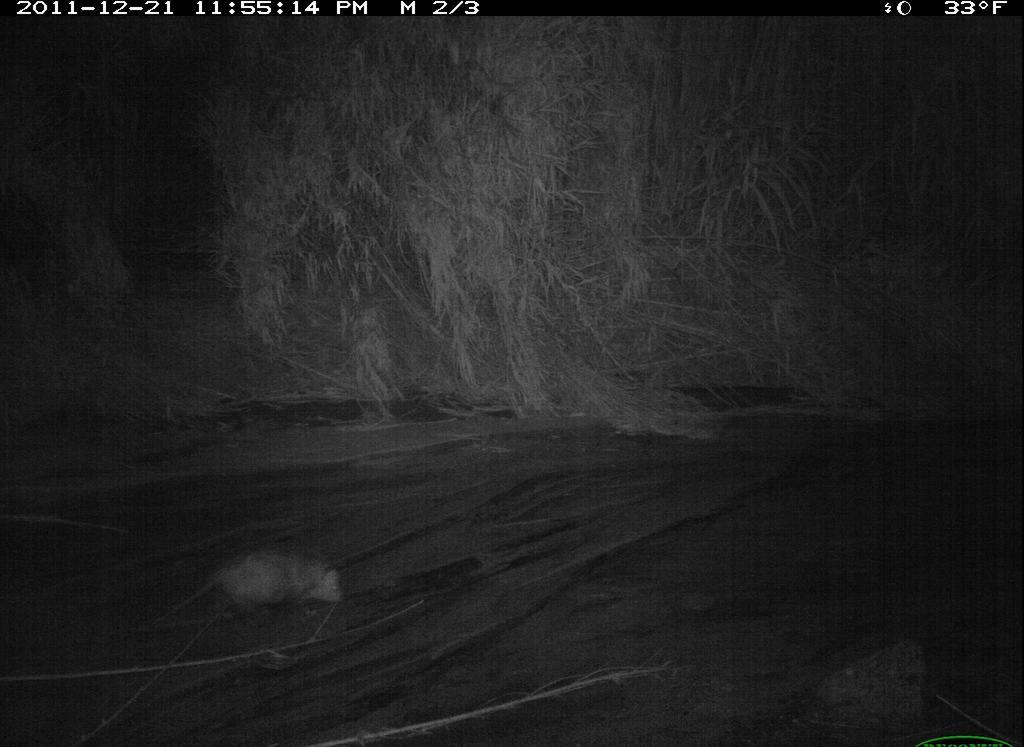opossum: (161, 539, 361, 630)
